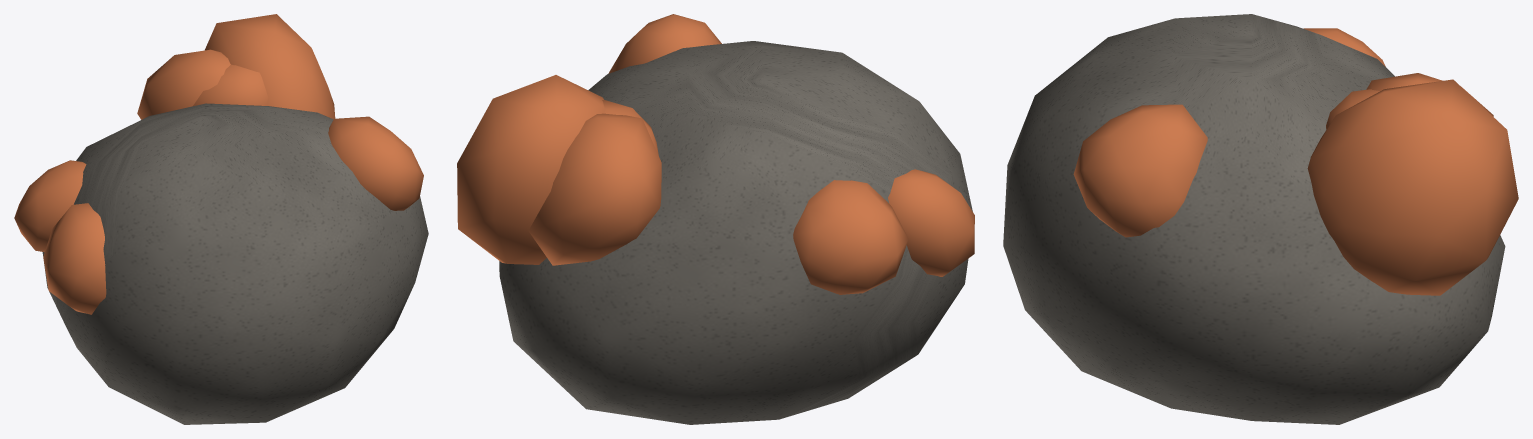
Rendered from ore_copper.glb.
3 views of the same model, side by side, from view 1: azimuth 30°, elevation 25°; view 2: azimuth 150°, elevation 25°; view 3: azimuth 270°, elevation 25° (orthographic). The views are drawn at different scales.
Visible parts, largest first — view 1: ore_copper; view 2: ore_copper; view 3: ore_copper.
Part boxes in pixels (left/top/right/bottom): ore_copper: left=14, top=14, right=428, bottom=424; ore_copper: left=457, top=14, right=974, bottom=424; ore_copper: left=1003, top=14, right=1518, bottom=424.
Size of the model in its own units: 0.1769 by 0.1364 by 0.1743.
Materials: 2 (1 with a texture image).
